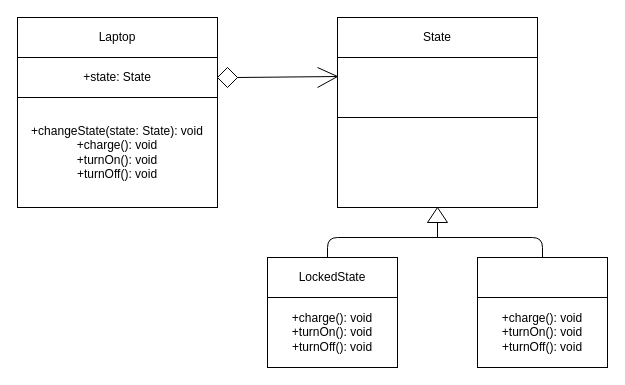
Image size: 625x385. Some labels were removed from this diagram. The shapes that lost their labels are listed below. From the top down, each one's centre as x and y in pixels, then its label:
At pixel 437 87: "#laptop: Laptop #power: boolean #screenOn: boolean".
At pixel 437 162: "-constructor(phone: Phone) +charge(): void +turnOn(): void +turnOff(): void".
At pixel 542 277: "ChargedState".
